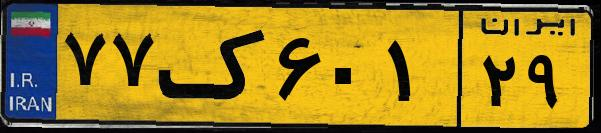0: (330, 28, 385, 110)
1: (385, 28, 445, 110)
2: (475, 38, 525, 113)
6: (270, 28, 330, 110)
7: (57, 26, 110, 100), (110, 28, 158, 98)
9: (525, 38, 570, 115)
ک: (158, 12, 270, 120)
